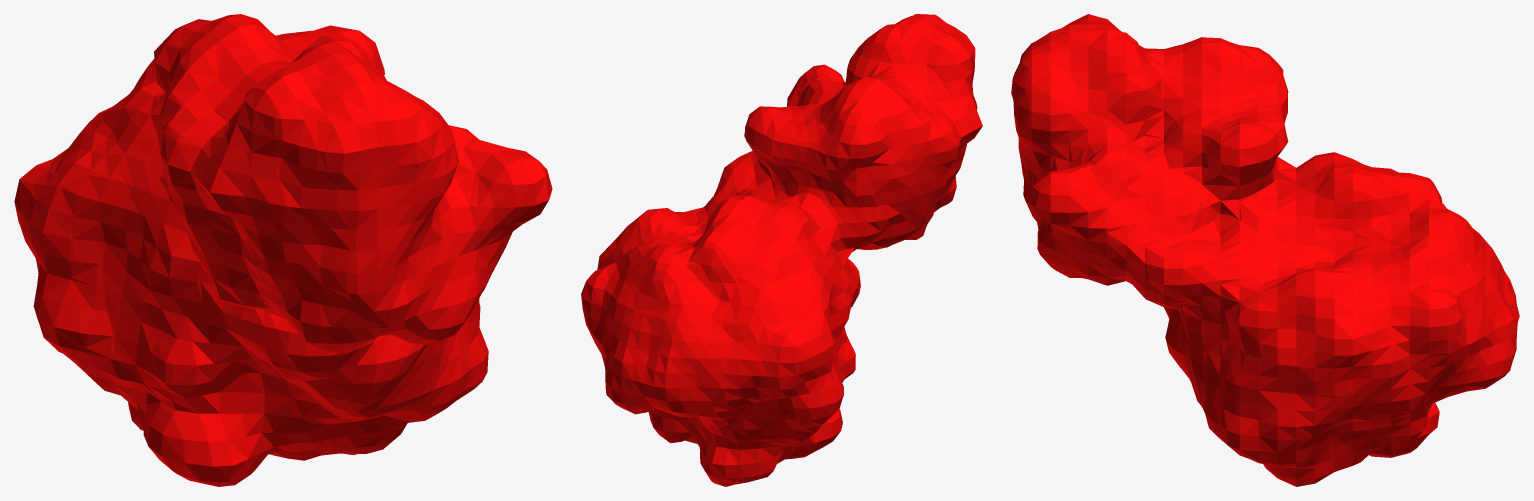
Rendered from tusC_coarse.dae.
The picture shows the model from 3 angles, left to right: view 1: azimuth 30°, elevation 25°; view 2: azimuth 150°, elevation 25°; view 3: azimuth 270°, elevation 25°; orthographic projection. The views are drawn at different scales.
Parts seen in each view (by area): view 1: tusC; view 2: tusC; view 3: tusC.
Boxes of the visible parts, x1,y1,x2,y2 form: tusC: (14, 14, 552, 486); tusC: (581, 14, 982, 486); tusC: (1011, 14, 1519, 486).
Size of the model in its own units: 70 by 90.99 by 104.
